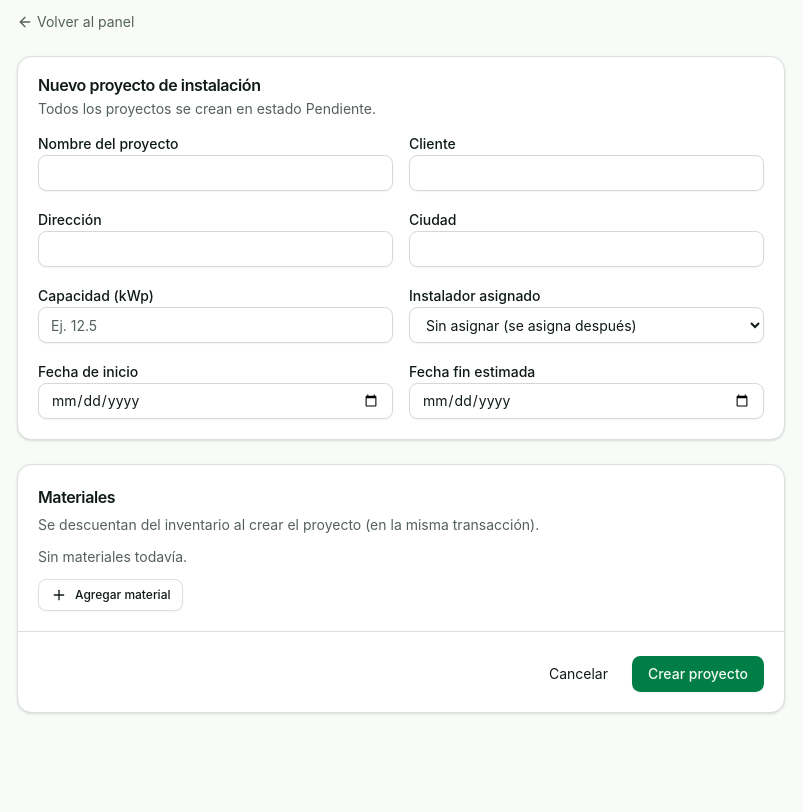
Formulario de nuevo proyecto (UI-04) › no llama a Supabase si la validación falla y marca los campos
Expected: the heading "Nuevo proyecto de instalación" is shown, top-left (38, 75), bottom-right (260, 95)
Type "2027-02-10" into the date field labelled "Fecha de inicio" at (216, 401), box top-left (38, 383), bottom-right (393, 419)
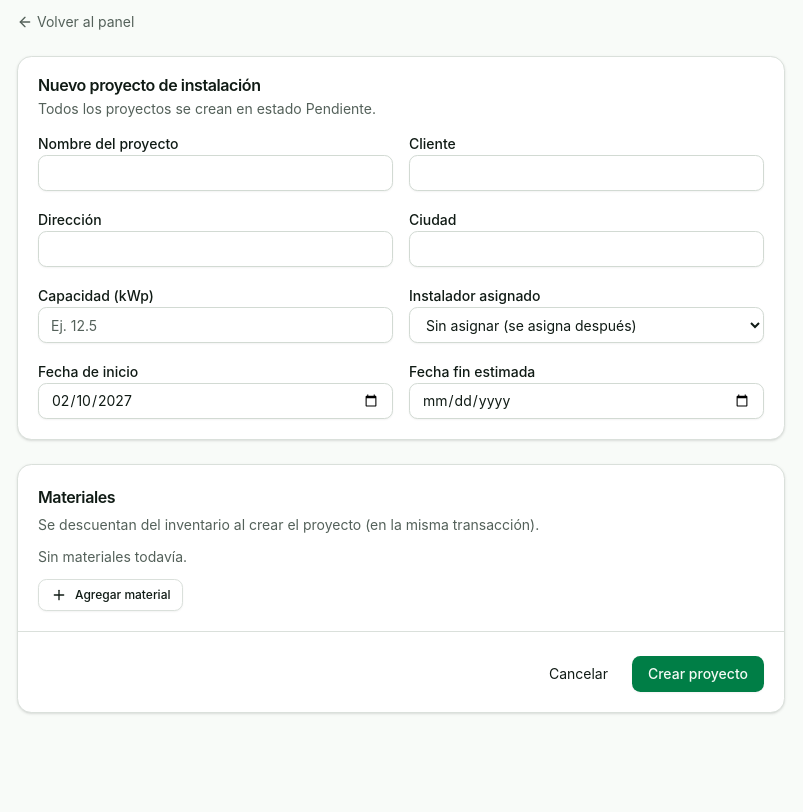
Type "2027-02-01" into the date field labelled "Fecha fin estimada" at (586, 401), box top-left (409, 383), bottom-right (764, 419)
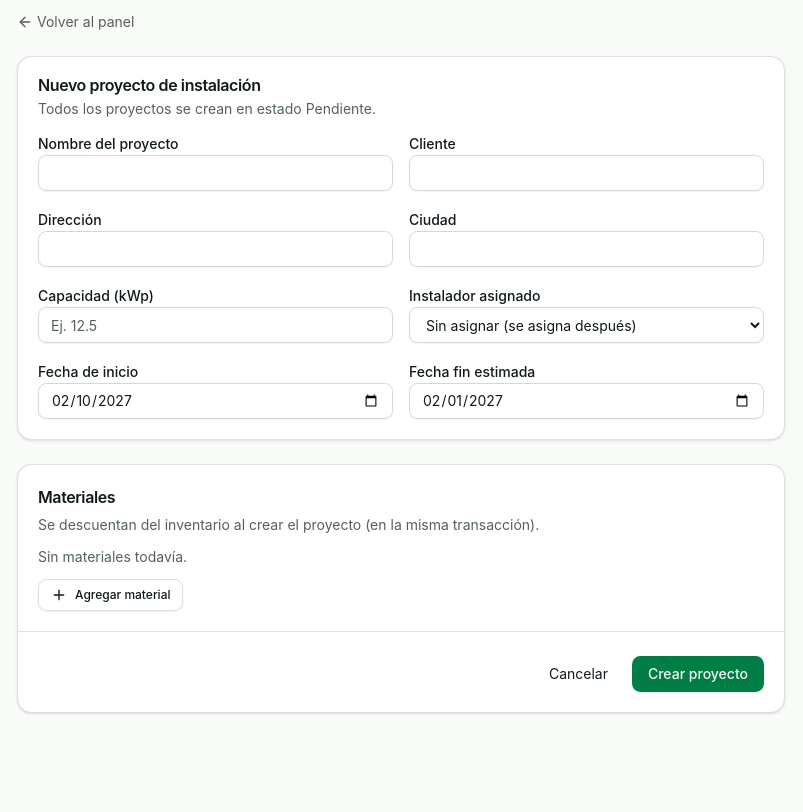
Click the button "Crear proyecto" at (698, 674), box top-left (632, 656), bottom-right (764, 692)
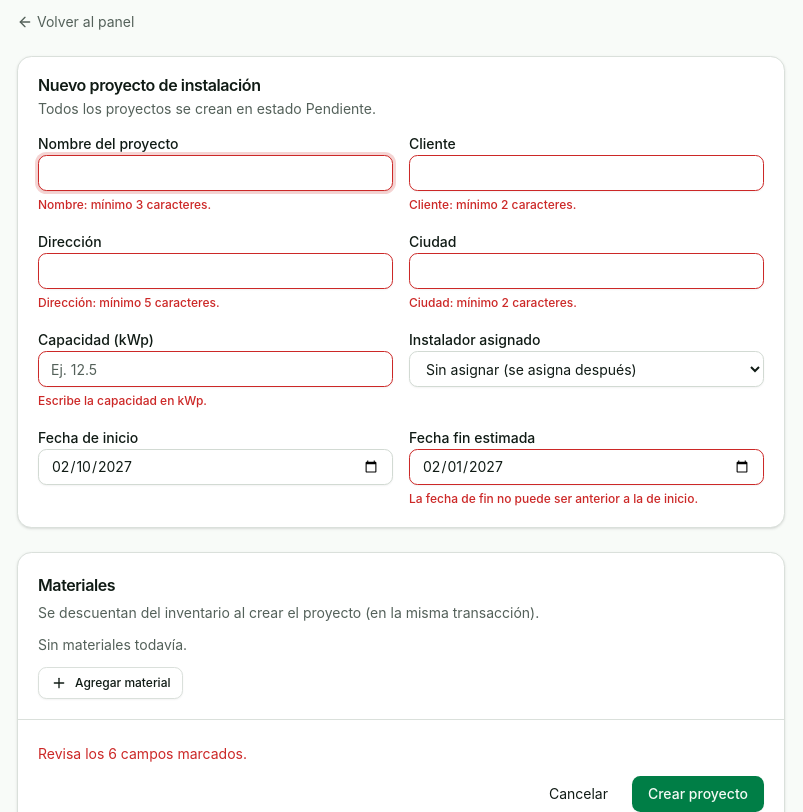
Now the text "La fecha de fin no puede ser anterior a la de inicio." is shown, box top-left (409, 491), bottom-right (698, 506)
Now the text "Nombre: mínimo 3 caracteres." is shown, box top-left (38, 197), bottom-right (211, 212)
